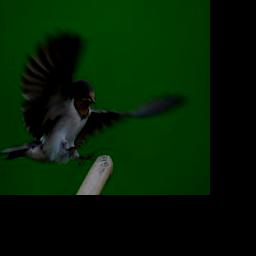Swallow: (2, 28, 186, 166)
